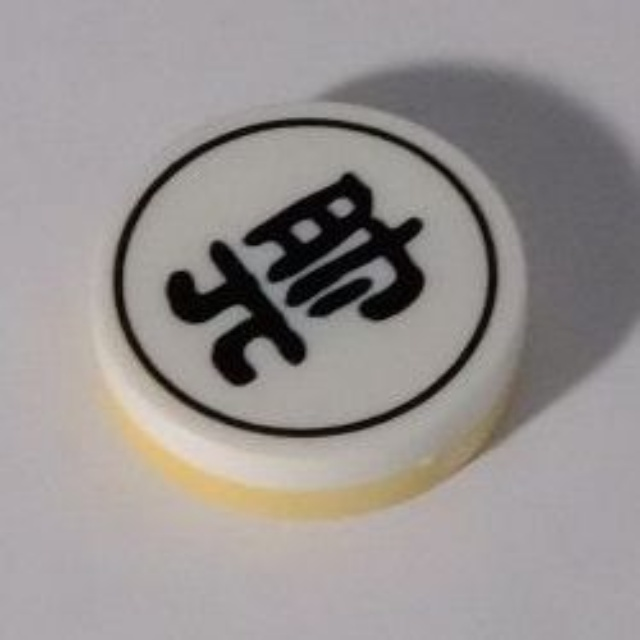black_tuong: (80, 98, 535, 519)
